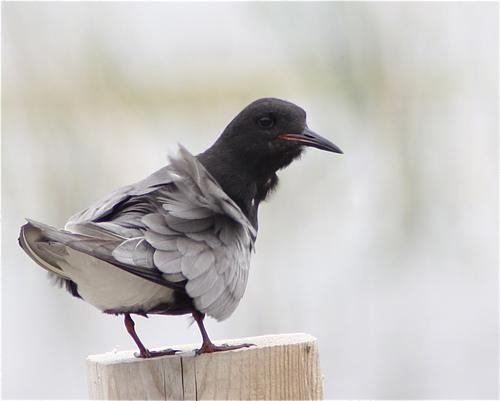bird: (15, 97, 343, 363)
